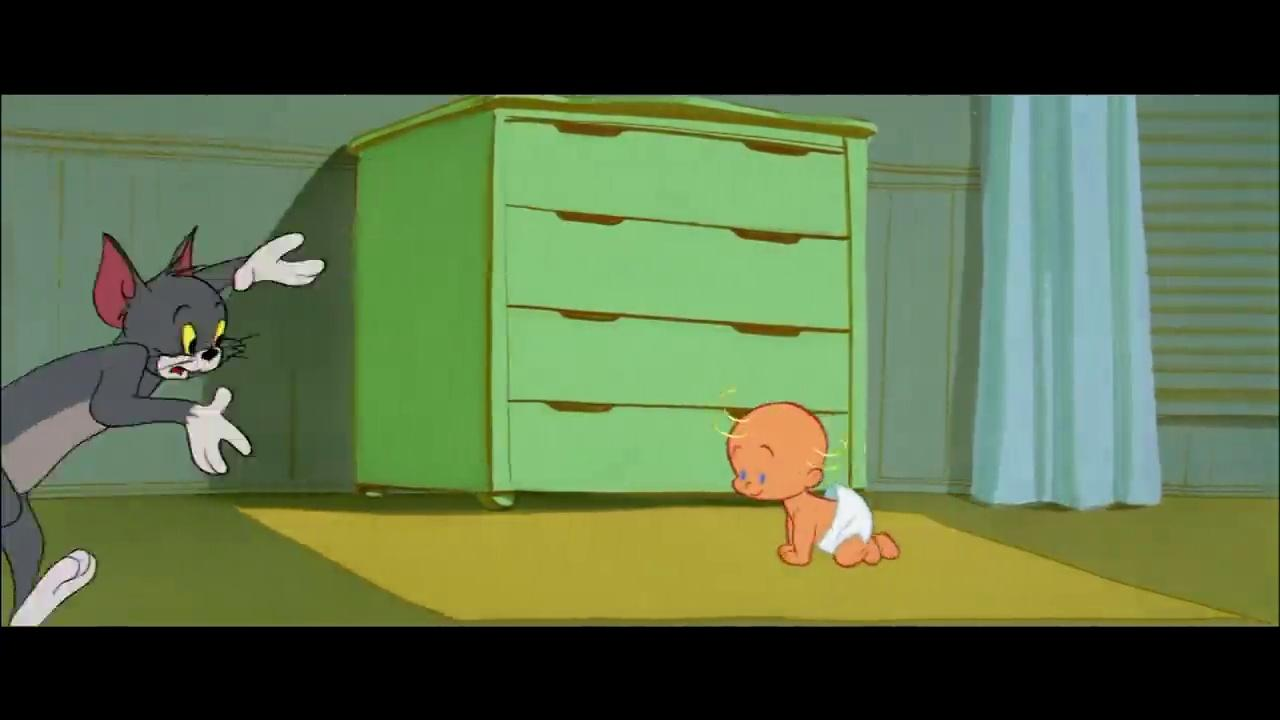Tom: (0, 228, 328, 625)
